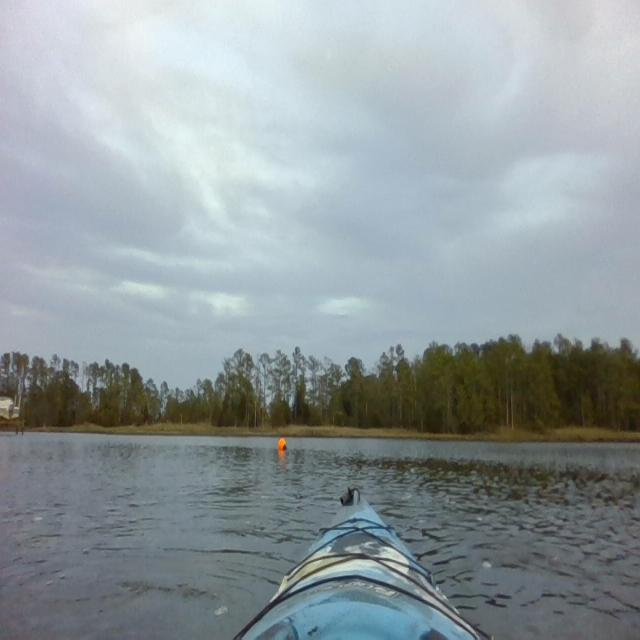Buoy: (277, 434, 288, 455)
